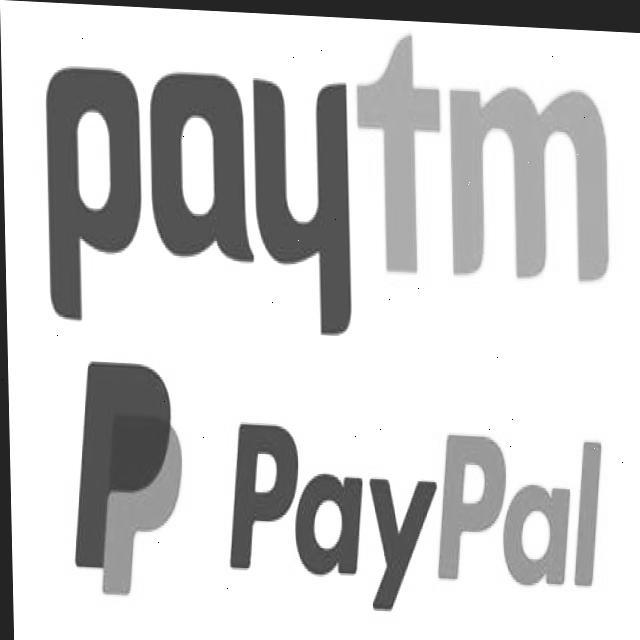fully_visible: (22, 37, 623, 333)
